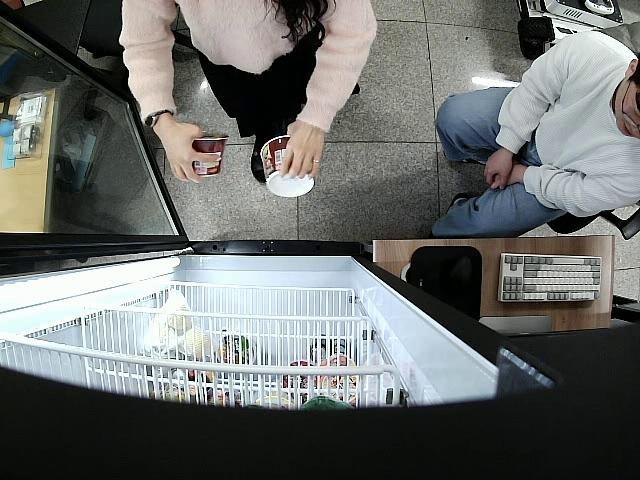05_nuguri_L: (260, 133, 314, 198), (188, 133, 229, 178)
